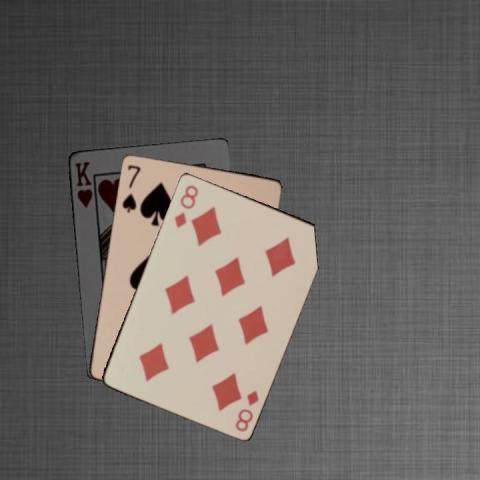7s: (119, 161, 142, 214)
8d: (172, 181, 200, 229), (232, 386, 260, 433)
Kh: (71, 158, 94, 209)
